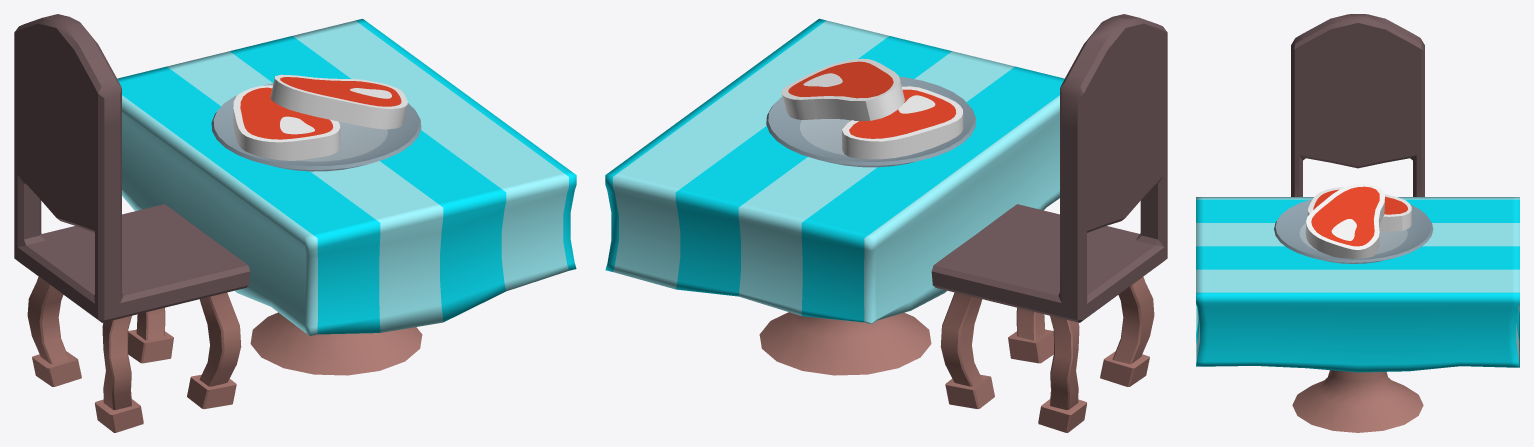
The model's file is Food Table.fbx.
The picture shows the model from 3 angles, left to right: view 1: azimuth 30°, elevation 25°; view 2: azimuth 150°, elevation 25°; view 3: azimuth 270°, elevation 25°; orthographic projection. The views are drawn at different scales.
Visible parts, largest first — view 1: Food, Table; view 2: Food, Table; view 3: Food, Table.
Part boxes in pixels (x1,y1,x2,y2): Food: (117, 18, 576, 336); Table: (14, 14, 422, 432); Food: (605, 18, 1064, 324); Table: (759, 14, 1167, 432); Food: (1196, 184, 1519, 372); Table: (1291, 14, 1424, 432).
Size of the model in its own units: 4.33 by 3.83 by 3.88.
